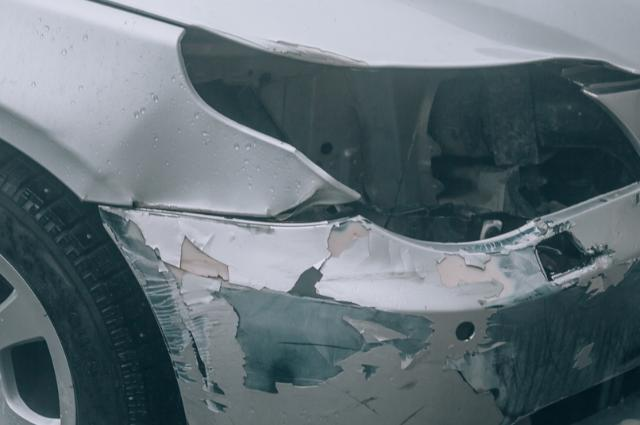Bumper: (99, 180, 640, 423)
Light: (185, 28, 640, 243)
